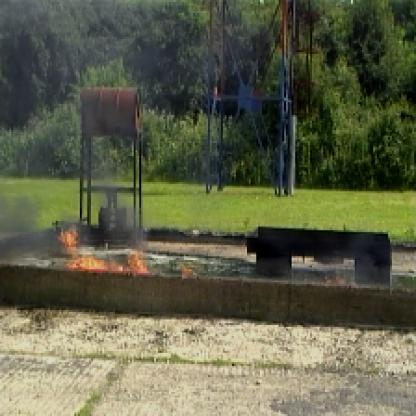Fire: (50, 221, 154, 277), (171, 260, 197, 280)
Smoke: (2, 2, 43, 258), (275, 240, 382, 297)
